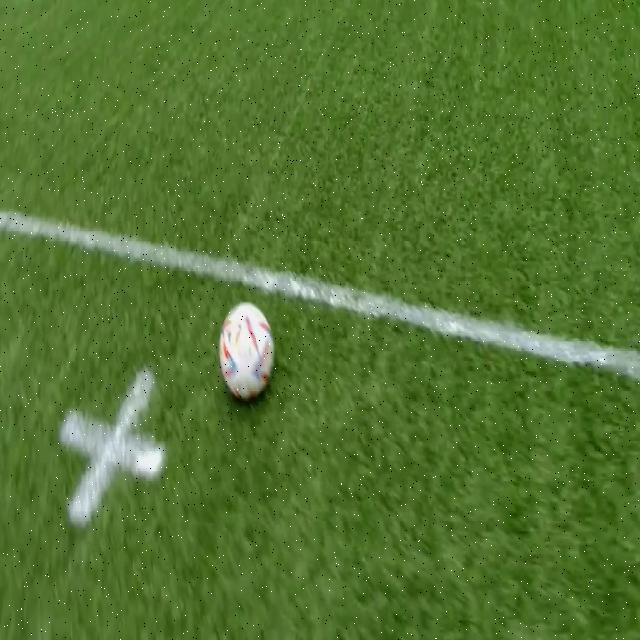ball: (218, 302, 274, 402)
